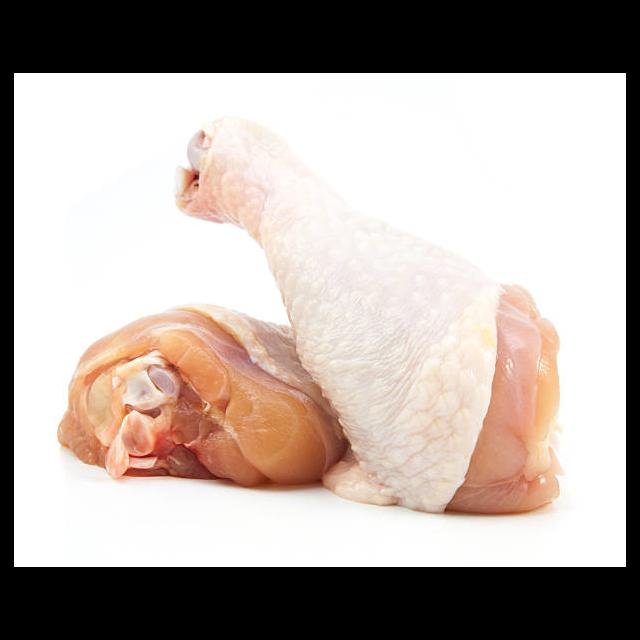chicken: (173, 115, 570, 516), (57, 303, 350, 480)
